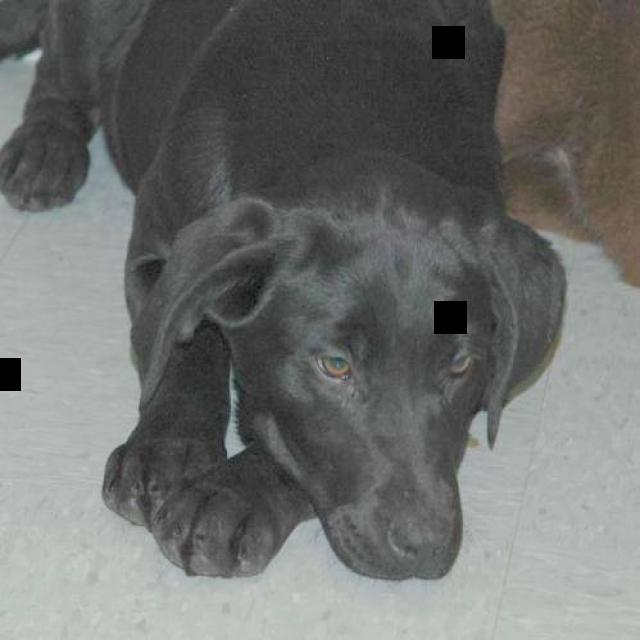puppy-dog: (5, 3, 567, 588)
